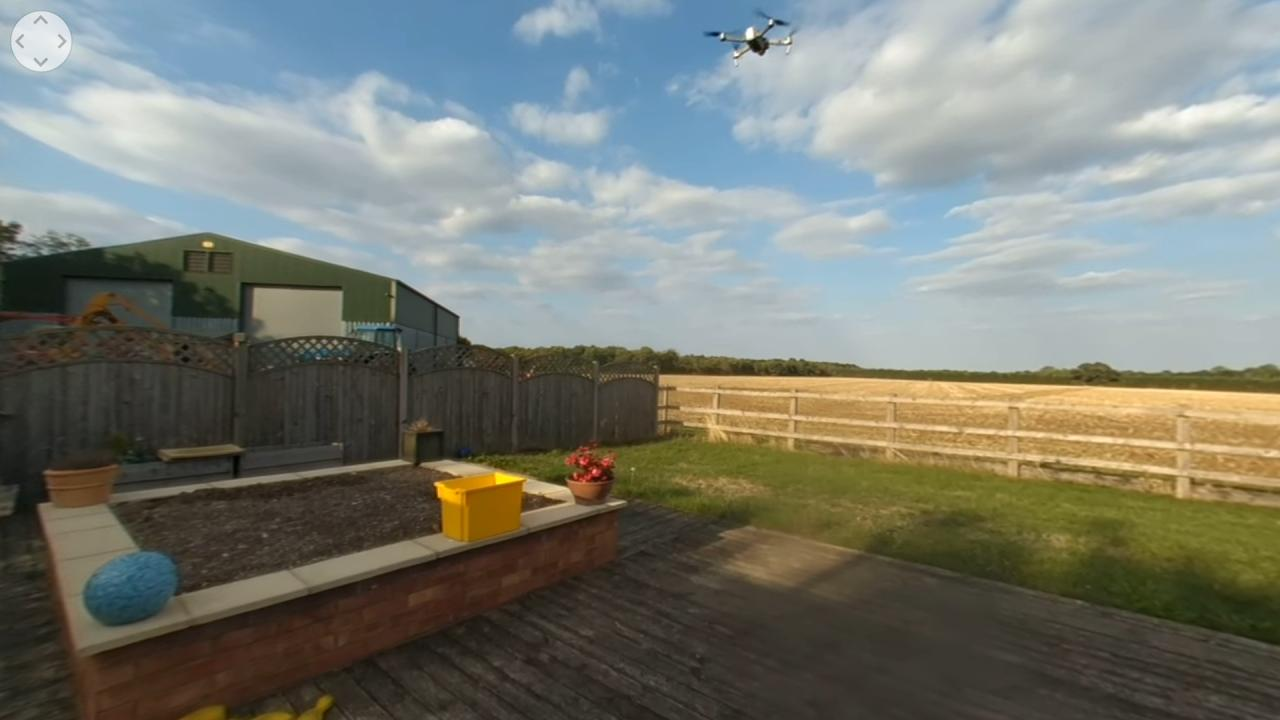Drone: (694, 3, 813, 70)
